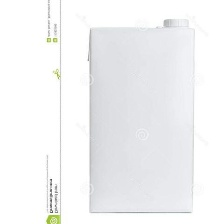carton: (83, 13, 197, 215)
